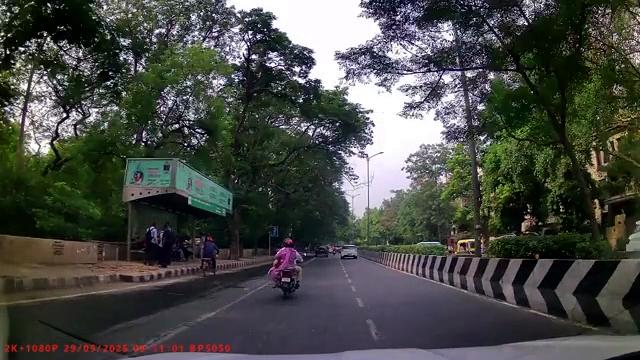passenger_with_helmet: (268, 235, 304, 301)
